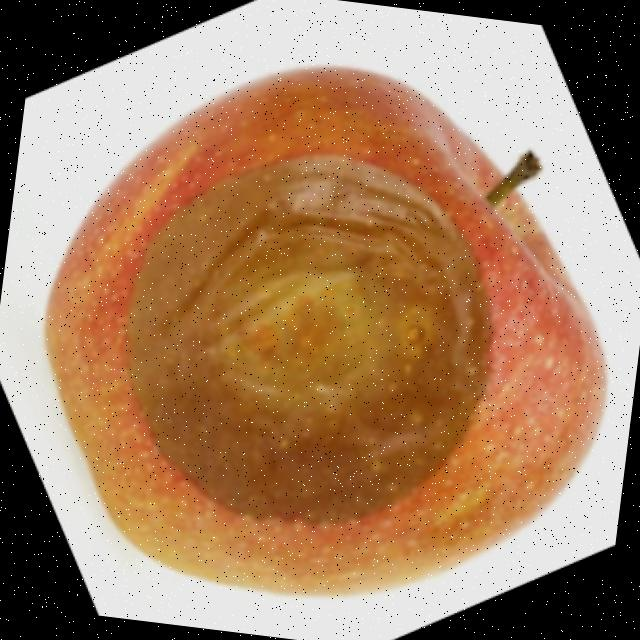Rotten: (7, 27, 640, 637)
